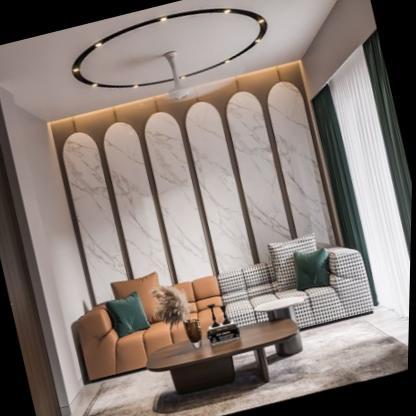Curtains: (314, 30, 413, 324)
Wall Panel: (44, 55, 350, 312)
